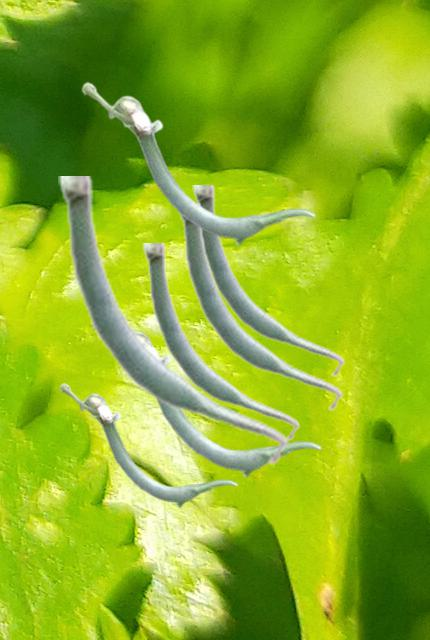french_bean: (58, 176, 288, 466), (81, 81, 315, 245), (91, 326, 321, 477), (177, 203, 342, 411), (142, 243, 299, 441), (192, 185, 344, 377), (59, 382, 237, 507)
